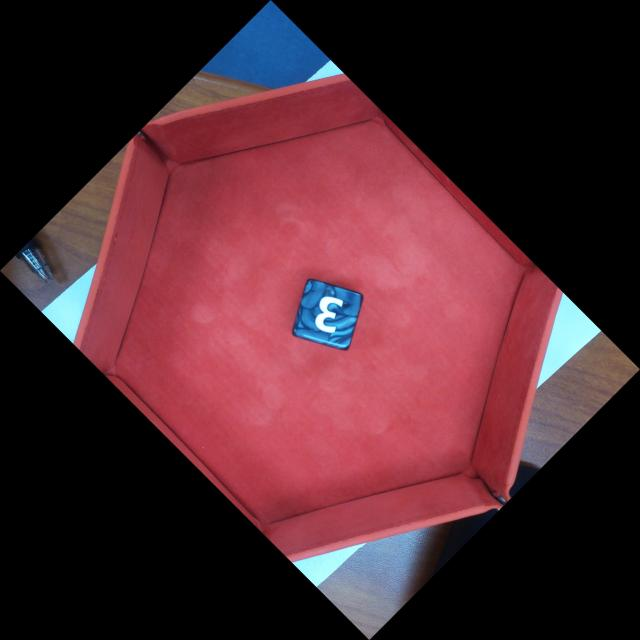dice: (291, 278, 364, 353)
